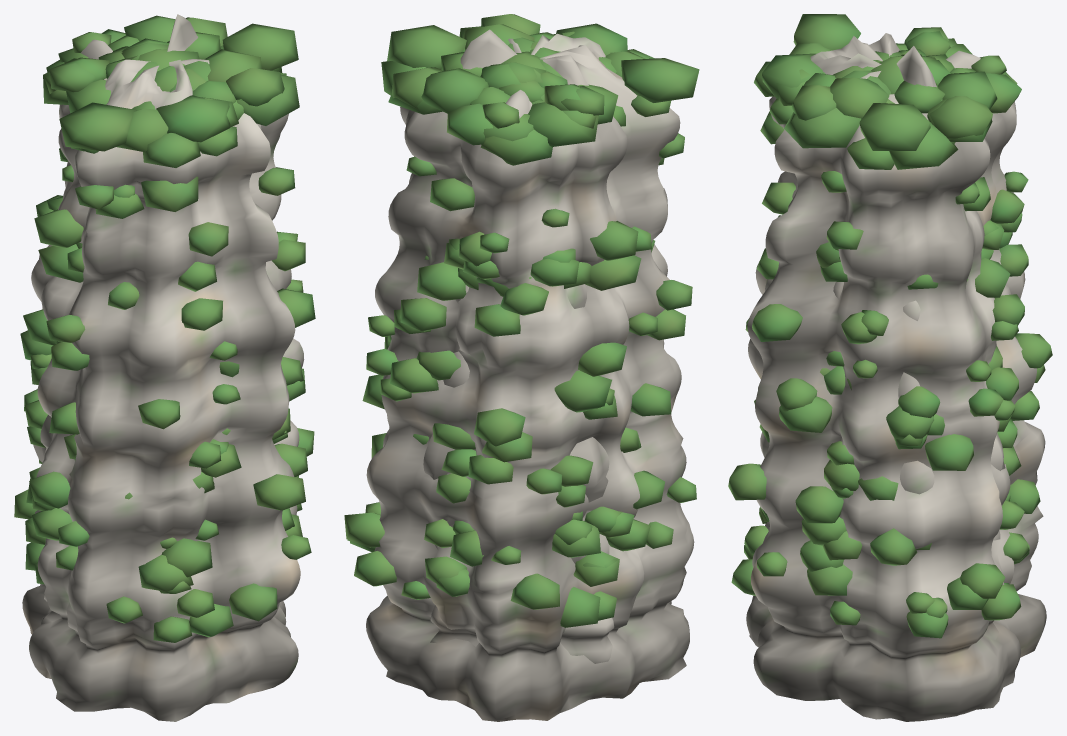
The model's file is rimba_kit.glb.
The picture shows the model from 3 angles, left to right: view 1: azimuth 30°, elevation 25°; view 2: azimuth 150°, elevation 25°; view 3: azimuth 270°, elevation 25°; orthographic projection.
Parts seen in each view (by area): view 1: karst_c, karst_a; view 2: karst_c, karst_a; view 3: karst_c, karst_a.
Part boxes in pixels (x1,y1,x2,y2): karst_c: (14, 14, 315, 721); karst_a: (20, 196, 239, 624); karst_c: (344, 14, 699, 721); karst_a: (413, 238, 641, 699); karst_c: (728, 14, 1052, 721); karst_a: (816, 220, 1021, 640).
Size of the model in its own units: 50.36 by 104 by 48.39.
